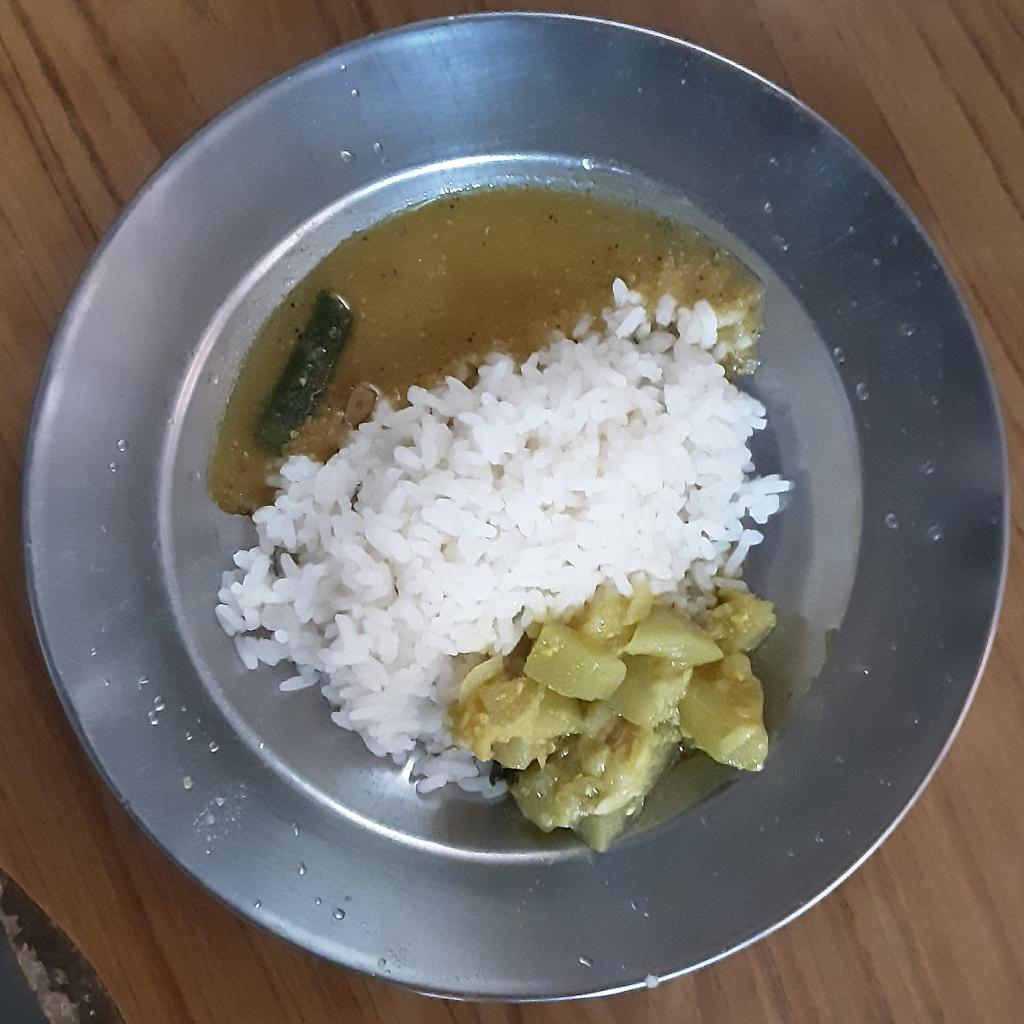daal: (202, 182, 762, 515)
lau: (458, 589, 778, 851)
rice: (213, 277, 789, 796)
